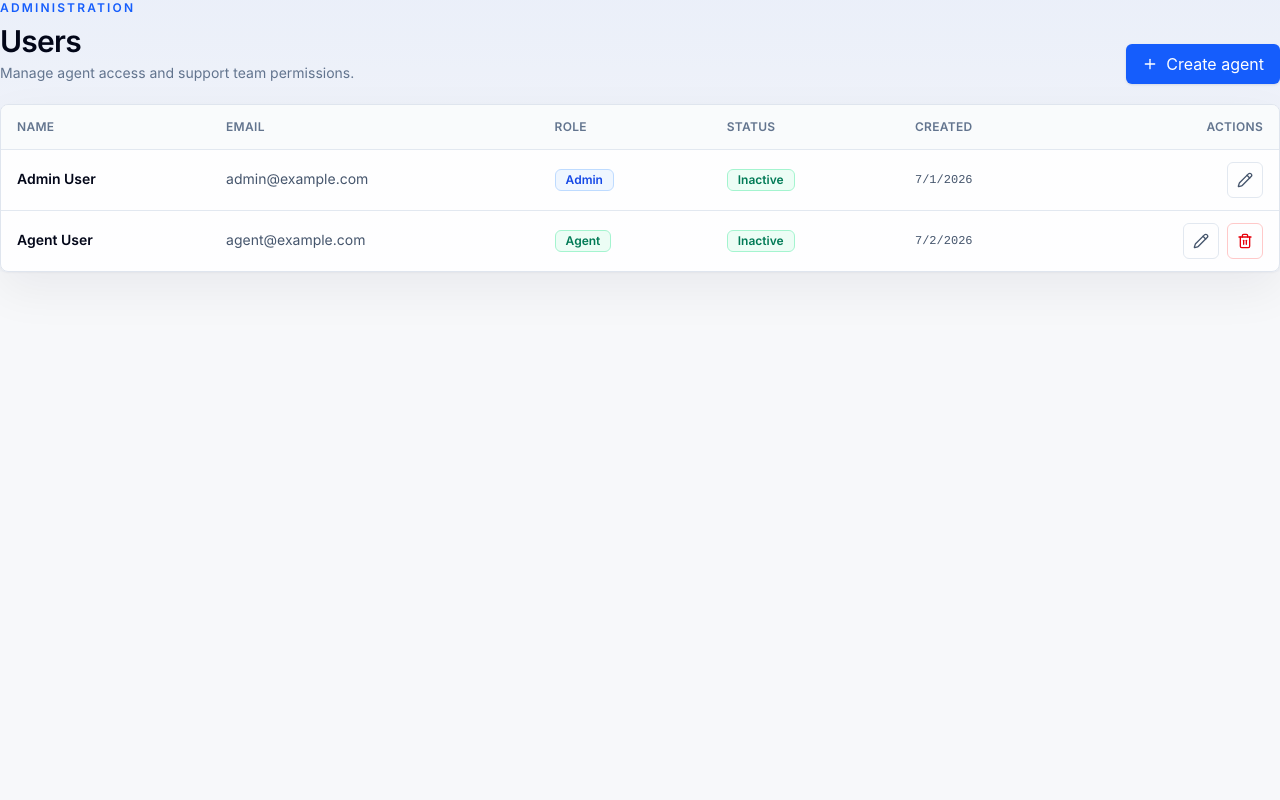
Test: UsersPage › opens a delete confirmation dialog with the selected user name
Click the button named "Delete Agent User": (1245, 240) [1227, 222, 1263, 258]
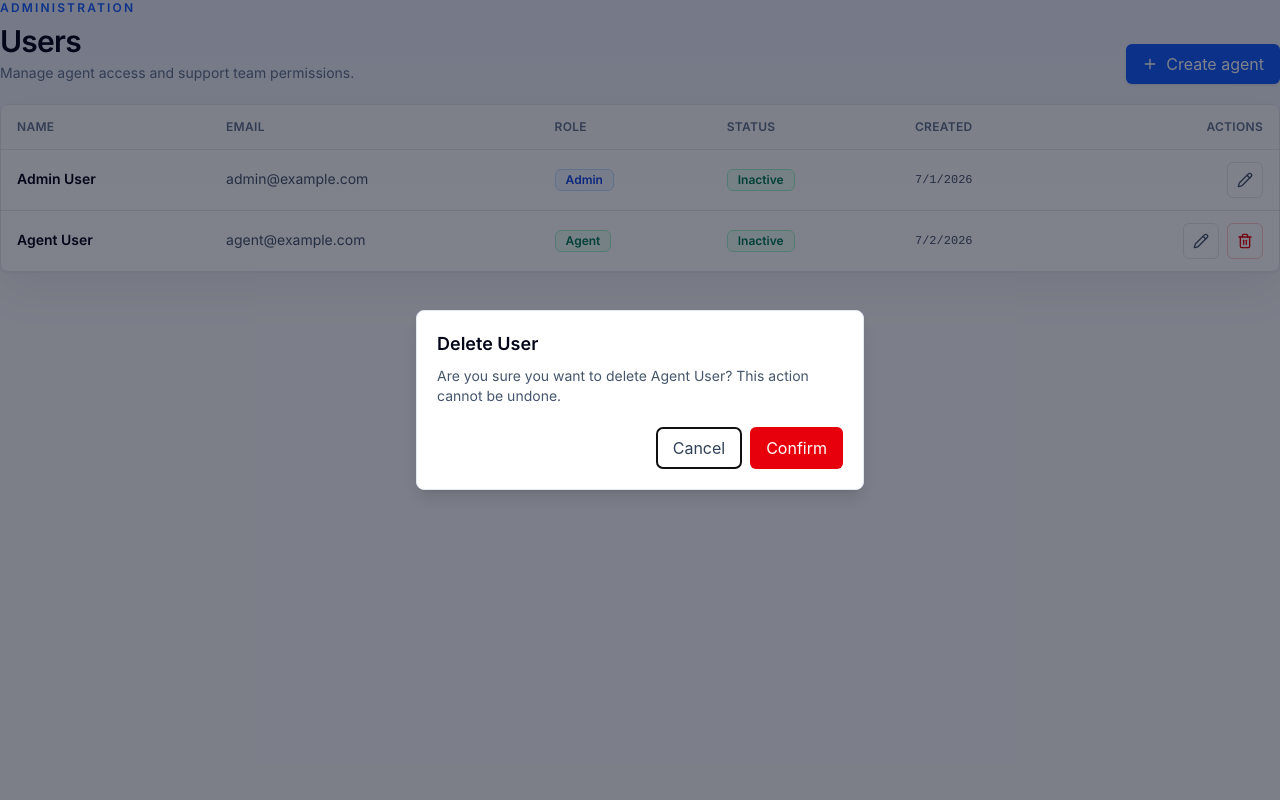
Check: the dialog "Delete User" is shown, box [416, 310, 864, 490]
Check: the text "Are you sure you want to delete Agent User?" is shown, box [437, 367, 843, 407]
